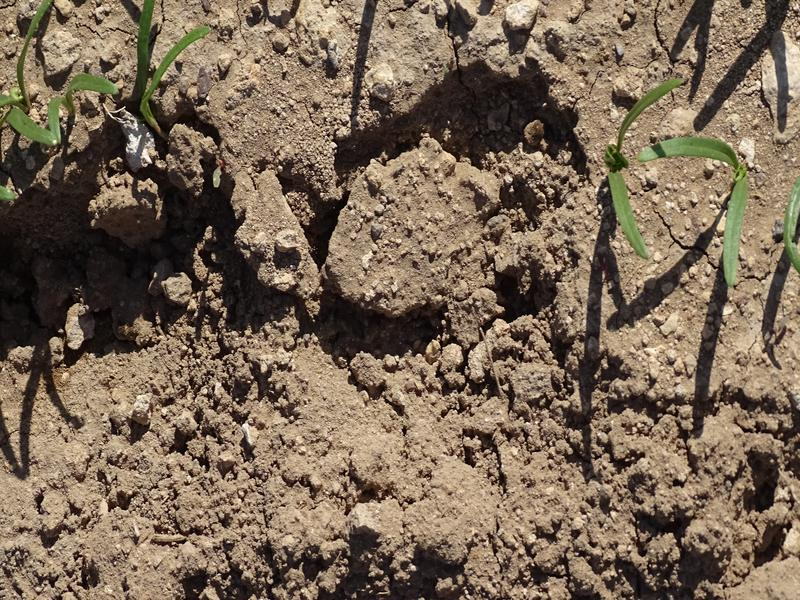Espinaca: (583, 80, 750, 289), (11, 4, 219, 151)
